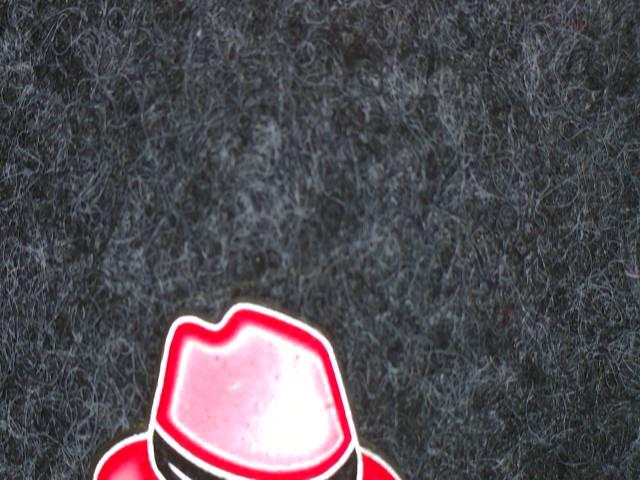Red-Hat: (45, 286, 430, 480)
